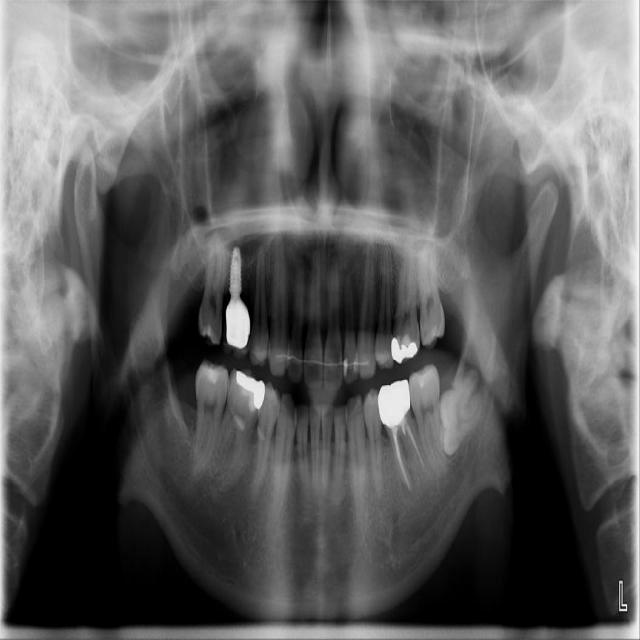Crown: (220, 300, 251, 359), (378, 380, 410, 428)
Filling: (235, 371, 266, 410), (392, 337, 418, 364)
Implant: (229, 247, 243, 292)
Periapical lesion: (464, 347, 485, 393)
Root Canal Treatment: (392, 427, 409, 486), (404, 416, 423, 468), (400, 424, 406, 436)
impacted tooth: (436, 369, 493, 454)
